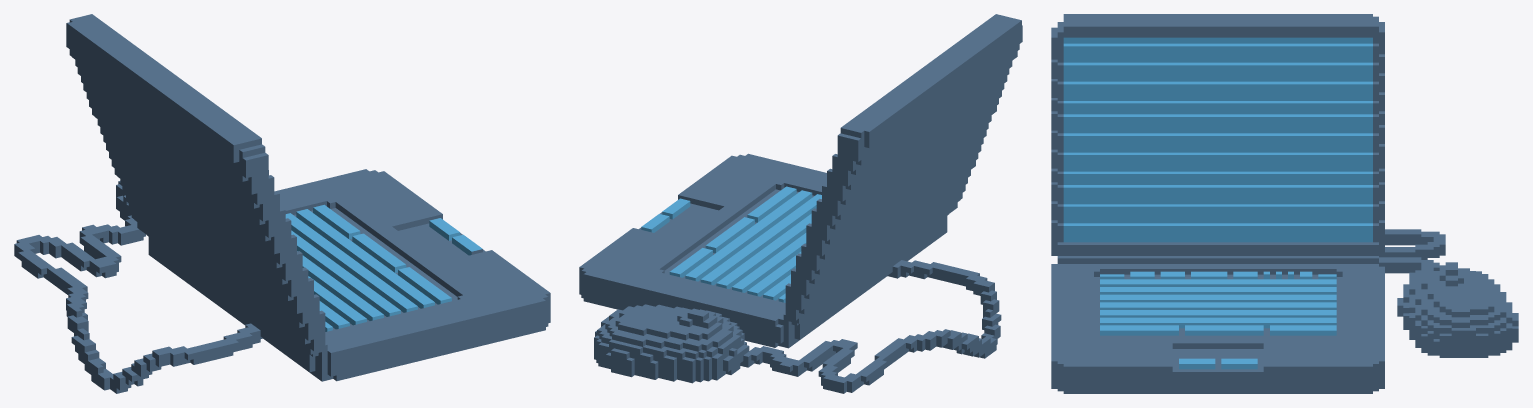
Rendered from asig_integra.gltf.
3 views of the same model, side by side, from view 1: azimuth 30°, elevation 25°; view 2: azimuth 150°, elevation 25°; view 3: azimuth 270°, elevation 25° (orthographic). The views are drawn at different scales.
Parts seen in each view (by area): view 1: antena_001-0-laptop; view 2: antena_001-0-laptop; view 3: antena_001-0-laptop.
Boxes of the visible parts, left/top/right/bottom form: antena_001-0-laptop: left=14, top=14, right=550, bottom=393; antena_001-0-laptop: left=579, top=14, right=1022, bottom=393; antena_001-0-laptop: left=1051, top=14, right=1518, bottom=393.
Bounding box in the file's own units: 6.5 × 4.9 × 7.7.
